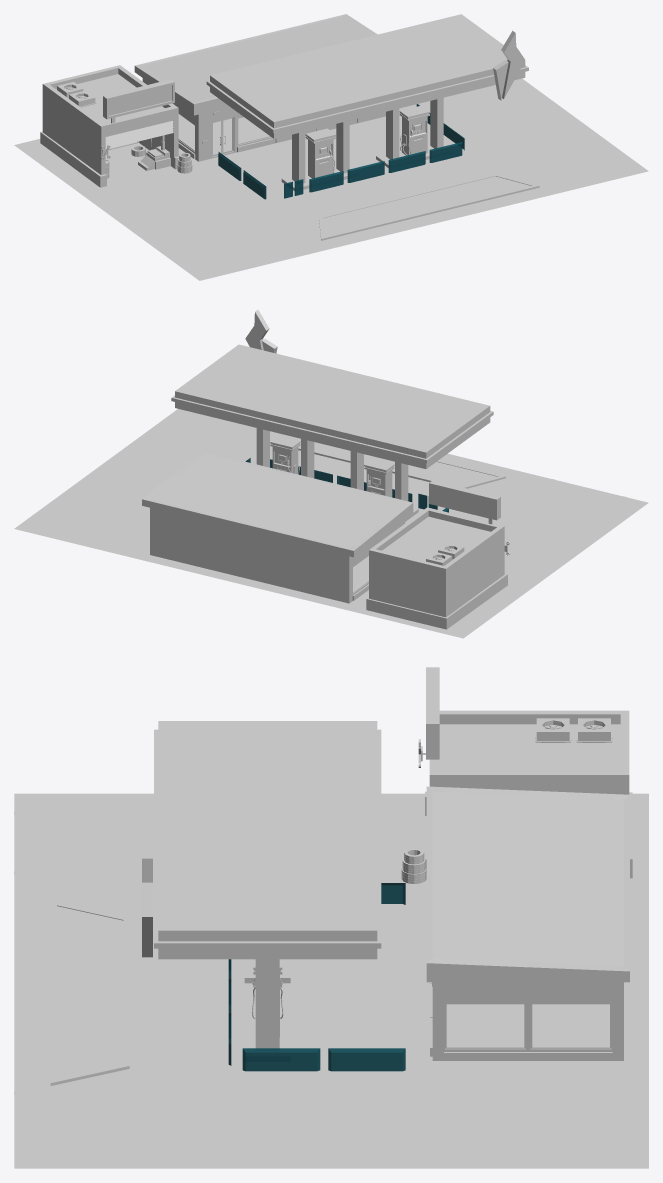
Rendered from petrol_pump.fbx.
The picture shows the model from 3 angles, top to bottom: view 1: azimuth 30°, elevation 25°; view 2: azimuth 150°, elevation 25°; view 3: azimuth 270°, elevation 25°; orthographic projection. The views are drawn at different scales.
Parts seen in each view (by area): view 1: petrol_pump, petrol_pump_glass; view 2: petrol_pump, petrol_pump_glass; view 3: petrol_pump, petrol_pump_glass.
Boxes of the visible parts, box(x1,y1,x2,y2) form: petrol_pump: box(14, 14, 648, 280); petrol_pump_glass: box(218, 104, 464, 199); petrol_pump: box(14, 309, 648, 638); petrol_pump_glass: box(245, 458, 448, 512); petrol_pump: box(14, 667, 648, 1168); petrol_pump_glass: box(228, 883, 405, 1071).
Bounding box in the file's own units: 4200 × 1354 × 3005.
